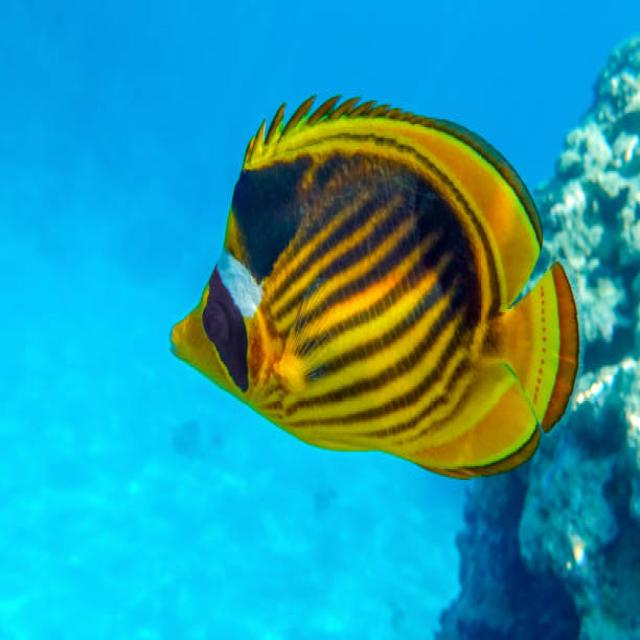ButterflyFish: (164, 91, 589, 484)
